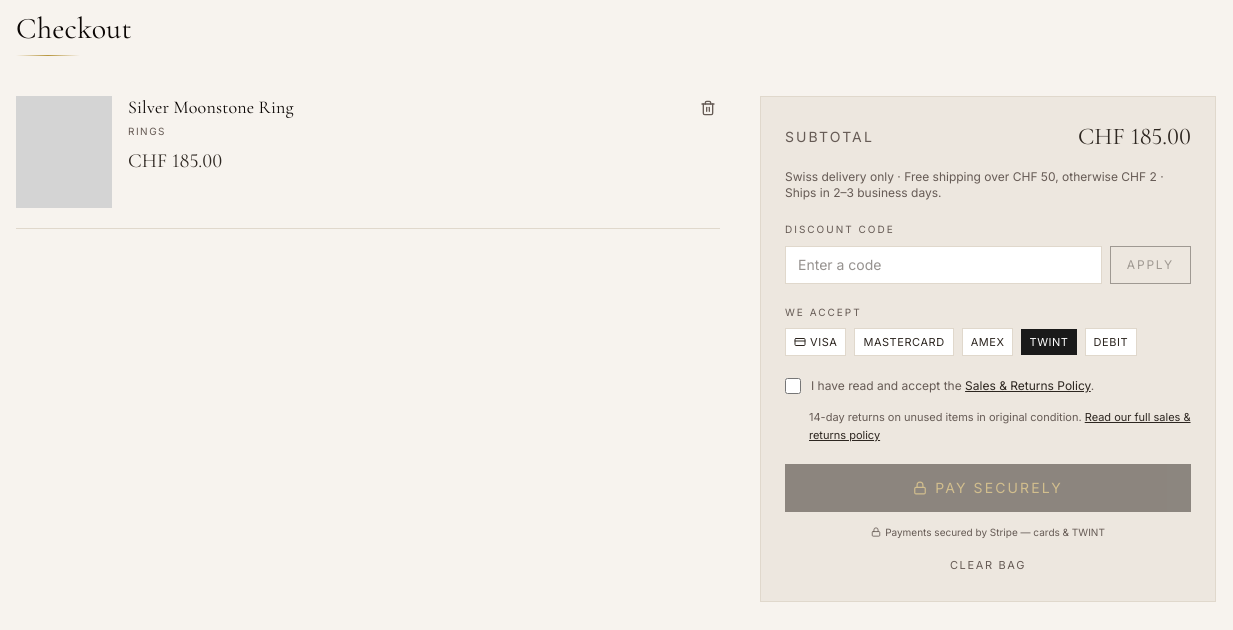
Test: Checkout discount code › lets the shopper take the code back off
In the field labelled "Discount code": (943, 264) 785,246 -> 1102,284, type "WELCOME10"
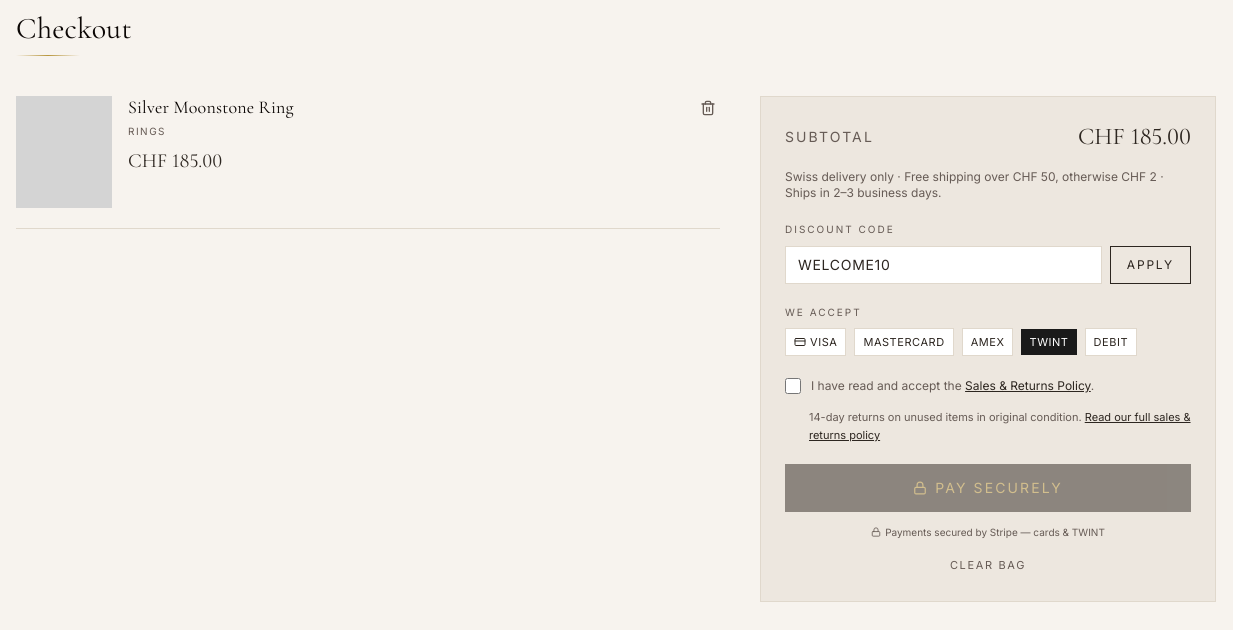
Click the button "Apply": (1150, 264) 1110,246 -> 1191,284
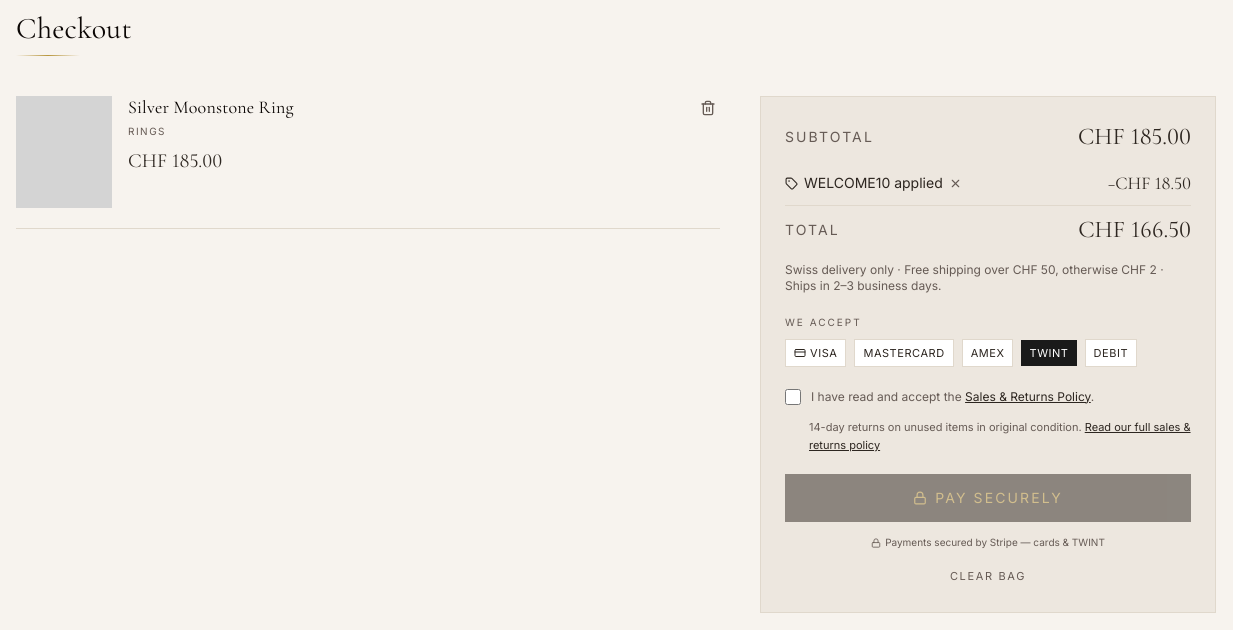
Result: the text "−CHF 18.50" is shown at 1108,169 -> 1191,197
Click the button named "Remove discount": (955, 183) 949,176 -> 962,190
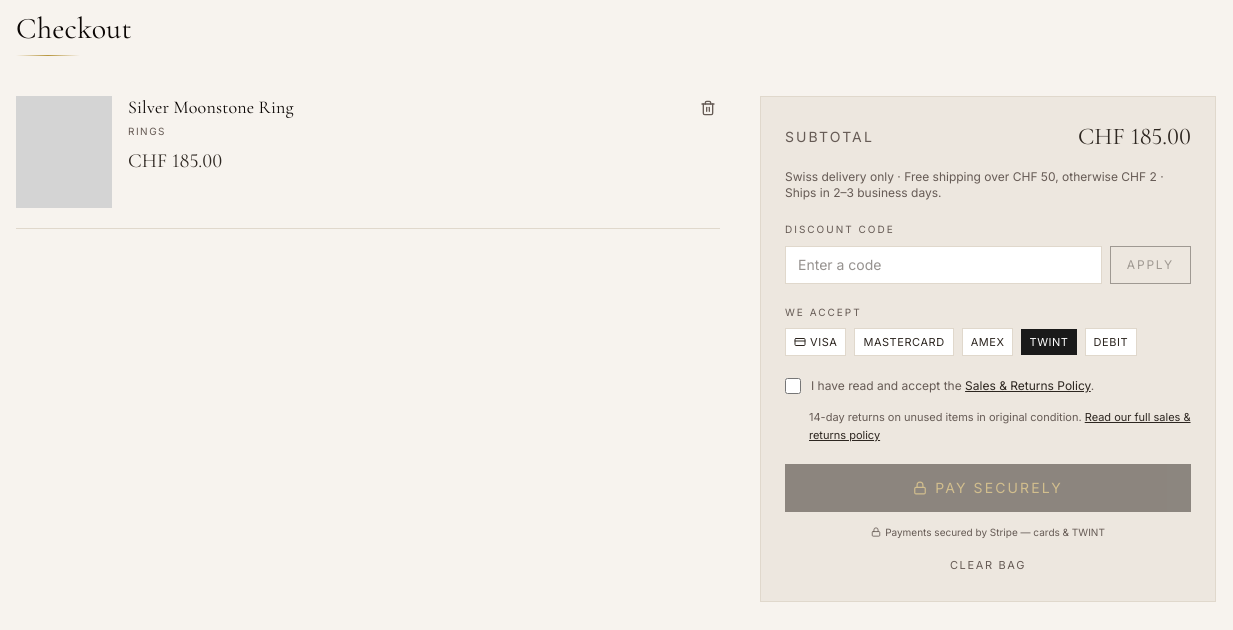
Result: the text "−CHF 18.50" is gone
Result: the field labelled "Discount code" is shown at 785,246 -> 1102,284
